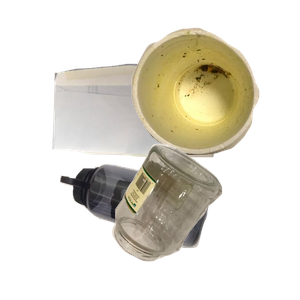glass: (110, 141, 300, 300)
paper: (50, 61, 257, 211)
plastic: (58, 162, 261, 300)
trash: (129, 25, 300, 173)
